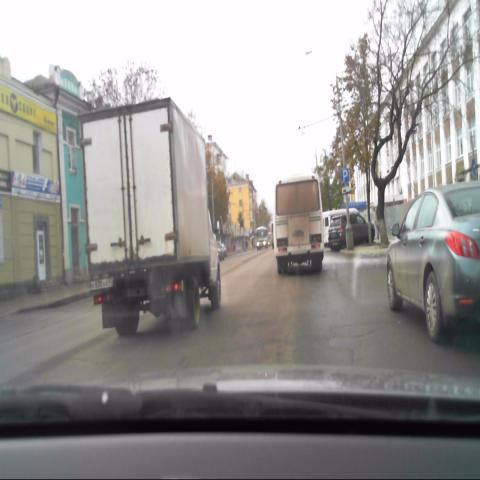6_4: (340, 168, 350, 182)
